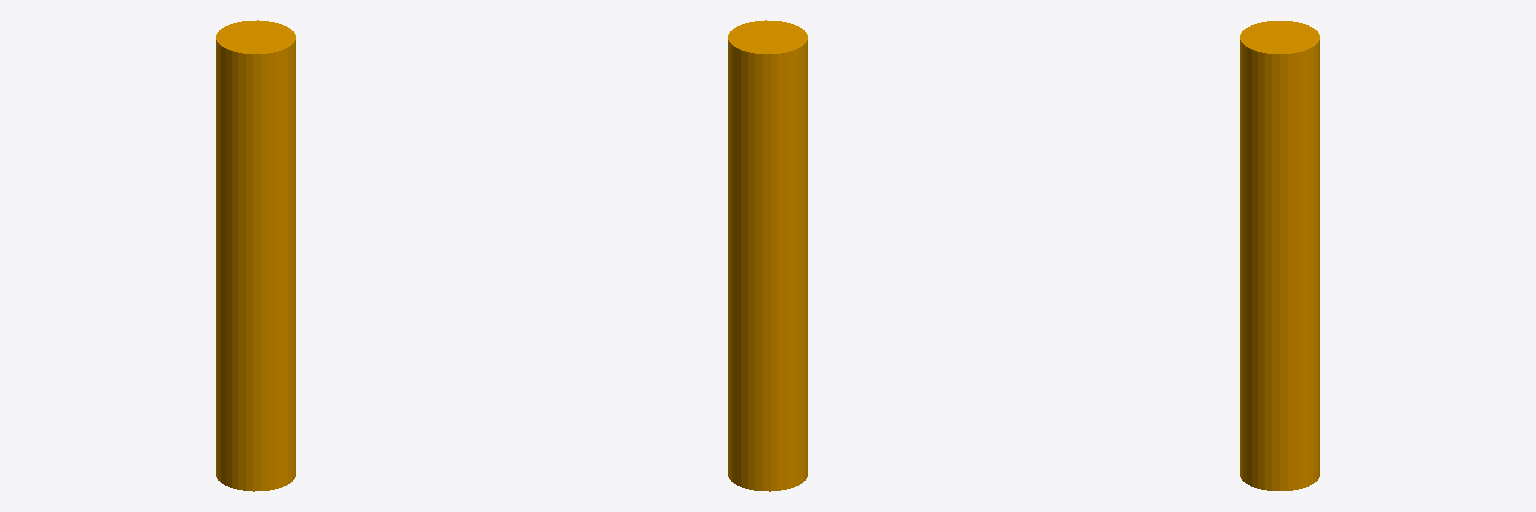
The robot description file, URDF, robot "object":
<robot name="object">
  <link name="object">
    <visual>
      <origin xyz="0 0 0" />
      <geometry>
        <cylinder radius="0.04" length="0.48" />
      </geometry>
    </visual>

    <collision>
      <origin xyz="0 0 0" />
      <geometry>
        <cylinder radius="0.04" length="0.48" />
      </geometry>
    </collision>

    <inertial>
      <mass value="0.05" />
      <inertia ixx="0.0001" ixy="0.0" ixz="0.0" iyy="0.0001" iyz="0.0" izz="0.0001" />
    </inertial>
  </link>
</robot>

--- What the picture shows (computed from the rendered views, not written in the file) ---
3 views of the same robot in one strip: view 1: azimuth 30°, elevation 25°; view 2: azimuth 150°, elevation 25°; view 3: azimuth 270°, elevation 25° (orthographic).
Robot: object — 1 links, 0 joints (none); root link object; default pose: every joint at zero.
Visible links, largest first — view 1: object; view 2: object; view 3: object.
Link boxes in pixels (bbox=[...]): object: bbox=[216, 20, 295, 491]; object: bbox=[728, 20, 807, 491]; object: bbox=[1240, 21, 1319, 490].
Bounding box of the posed robot: 0.08 × 0.08 × 0.48 m (x, y, z).
Geometry: primitives only (box / cylinder / sphere), no mesh files.